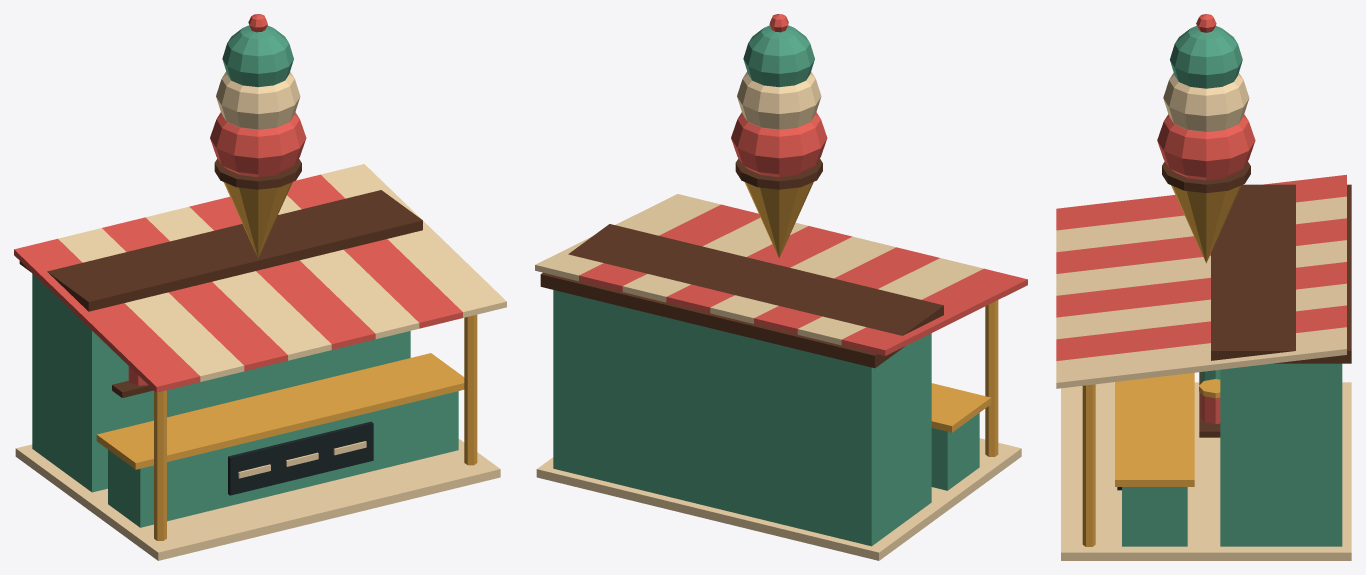
Rendered from ParkParkShopIceCream.obj.
The picture shows the model from 3 angles, left to right: view 1: azimuth 30°, elevation 25°; view 2: azimuth 150°, elevation 25°; view 3: azimuth 270°, elevation 25°; orthographic projection.
Visible parts, largest first — view 1: ParkParkShopIceCream; view 2: ParkParkShopIceCream; view 3: ParkParkShopIceCream.
Boxes of the visible parts, x1,y1,x2,y2 form: ParkParkShopIceCream: [14, 14, 506, 560]; ParkParkShopIceCream: [535, 14, 1027, 560]; ParkParkShopIceCream: [1056, 14, 1351, 560].
Size of the model in its own units: 8.8 by 10.87 by 6.3.
